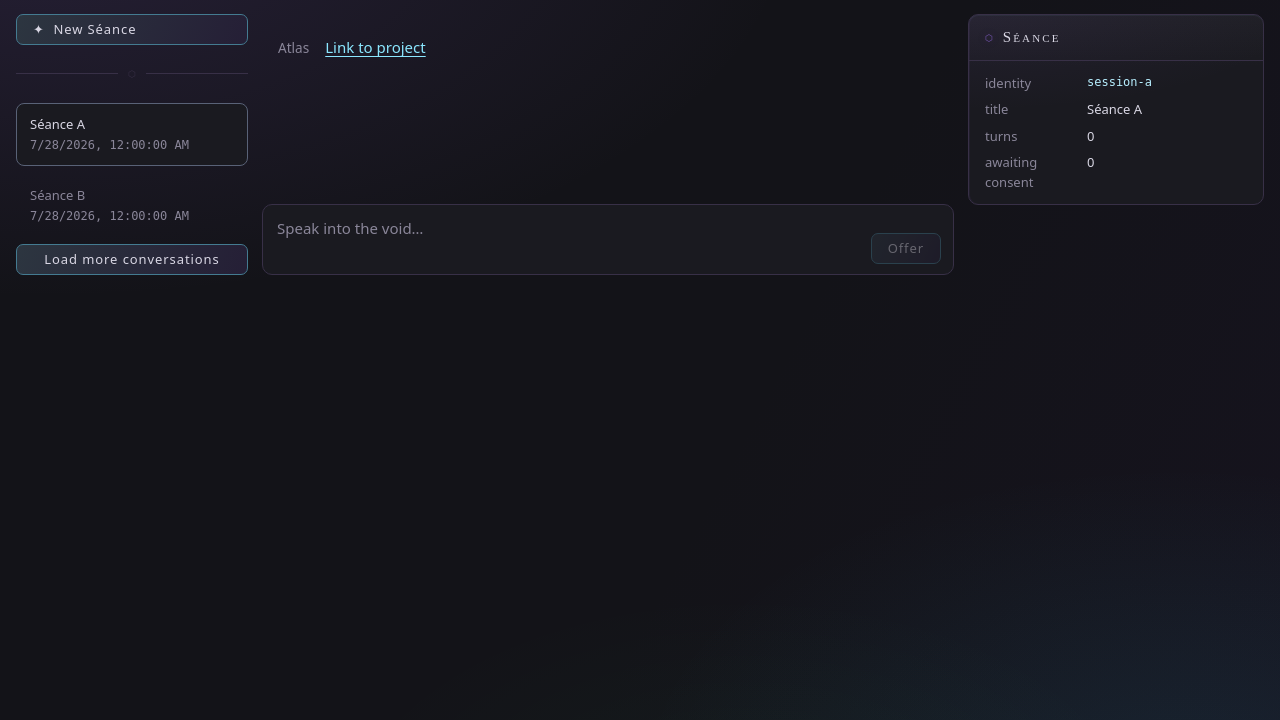
Test: Bridge route and stream ownership › keeps a failed page retryable without discarding already loaded conversations
Click the button "Load more conversations": (132, 260) [16,244,248,275]
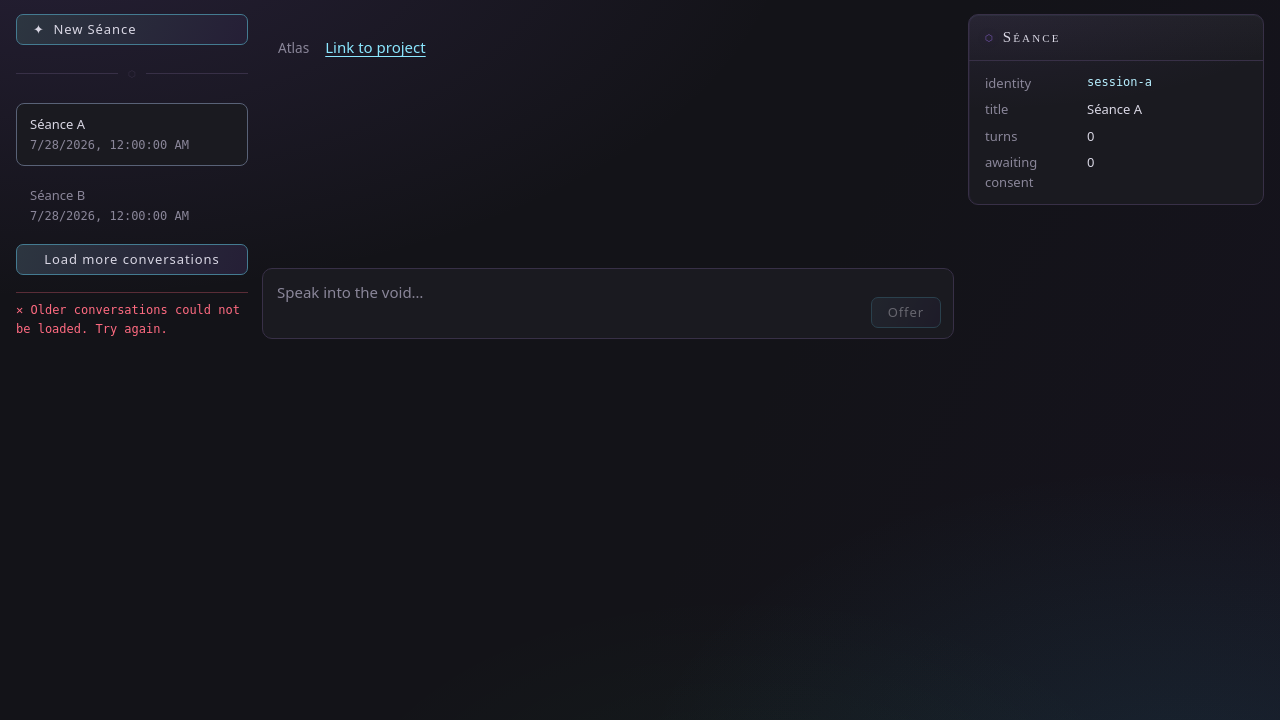
Check: the link "Séance A 7/28/2026, 12:00:00 AM" is shown, box [16,103,248,166]
Check: the text "Older conversations could not be loaded. Try again." is shown, box [16,292,248,339]
Click the button "Load more conversations": (132, 260) [16,244,248,275]
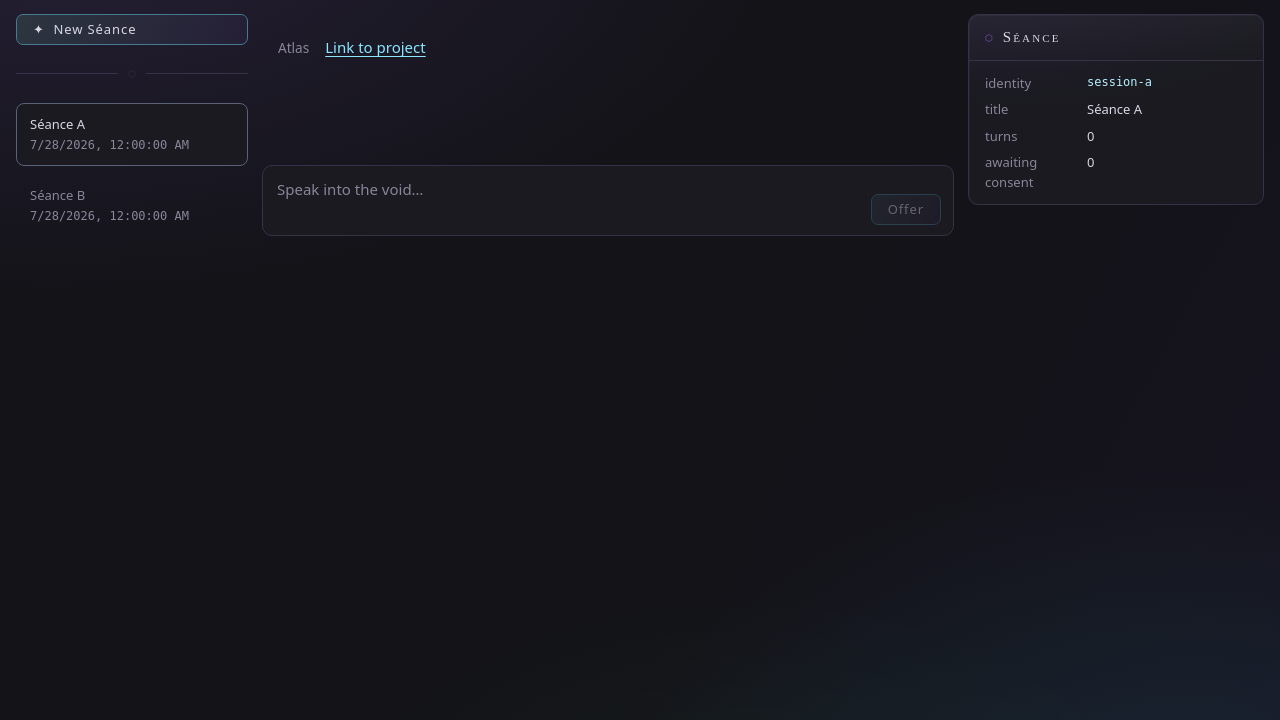
Check: the text "Older conversations could not be loaded. Try again." is gone
